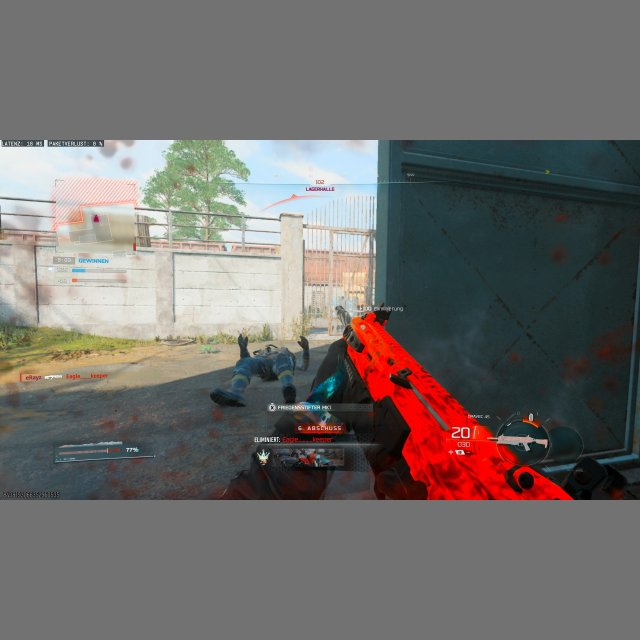player: (329, 305, 348, 336)
